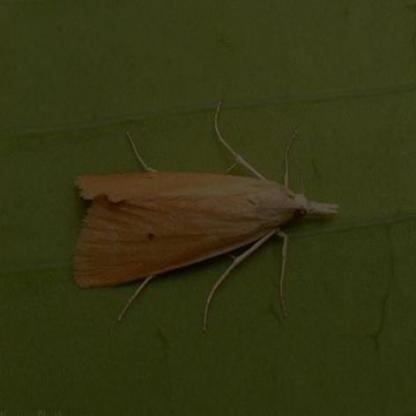stem-borer: (70, 154, 344, 302)
